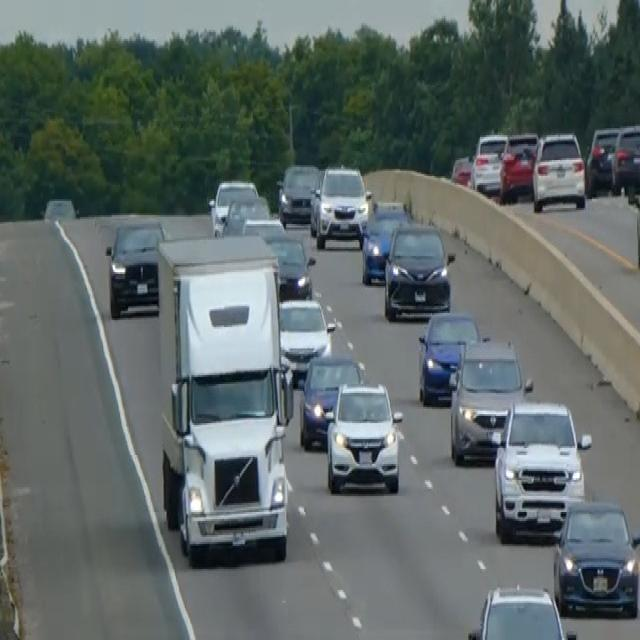car: (492, 397, 591, 542), (447, 334, 532, 464), (551, 496, 639, 619), (325, 379, 403, 494), (383, 219, 452, 320), (298, 350, 365, 450), (417, 308, 481, 406), (466, 582, 575, 638), (105, 217, 165, 318), (278, 294, 335, 381), (313, 162, 369, 247), (531, 128, 586, 212), (360, 196, 411, 284), (267, 233, 315, 299), (208, 176, 258, 233), (277, 160, 319, 226), (499, 130, 538, 201), (470, 130, 507, 196), (585, 124, 619, 194), (221, 192, 271, 236), (611, 121, 639, 195), (241, 215, 285, 242), (42, 196, 77, 222), (450, 153, 473, 187)
lorry: (154, 231, 294, 564)
